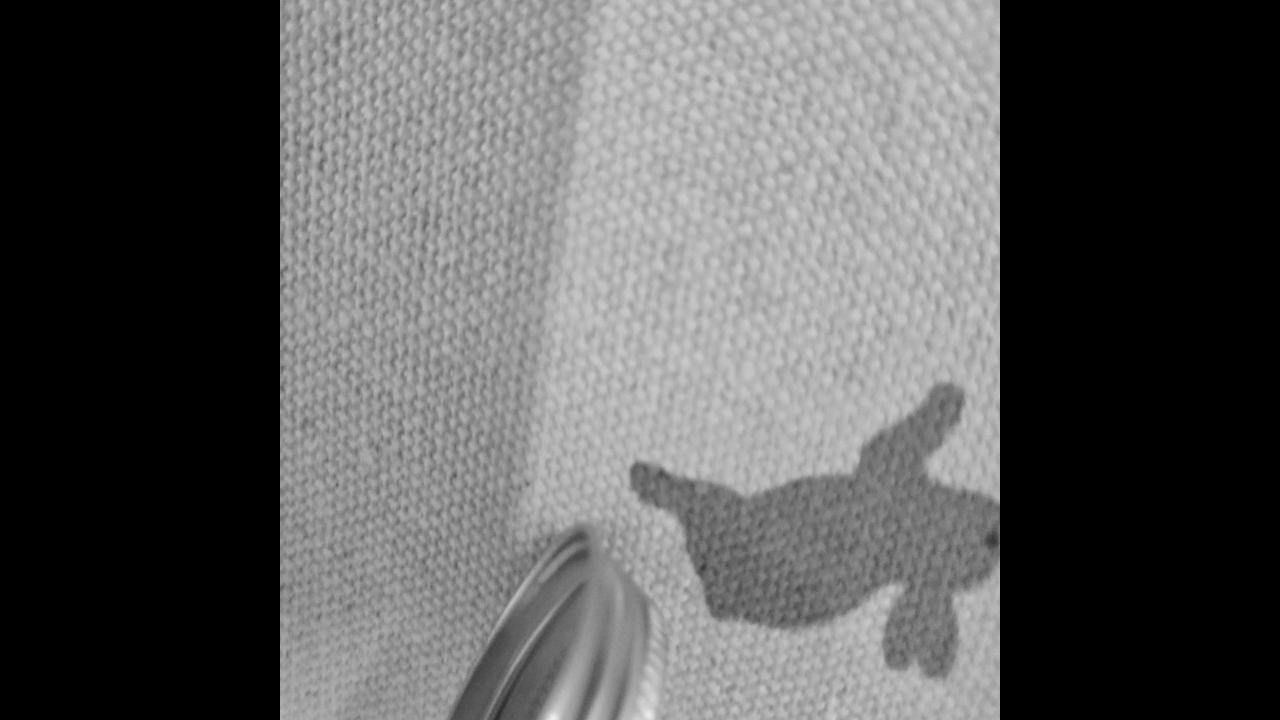bottle_cap: (404, 507, 670, 720)
